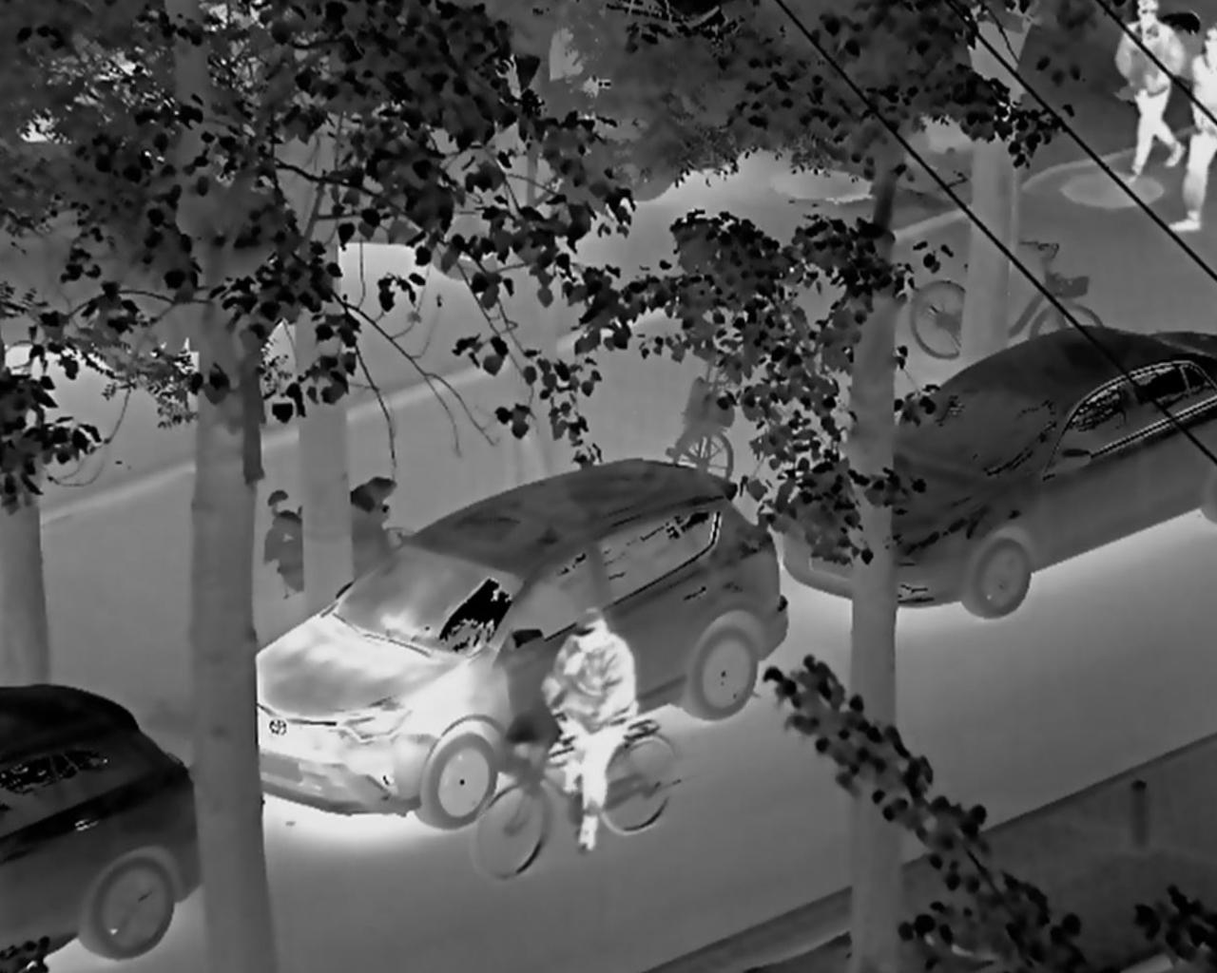person: (533, 602, 649, 864), (1163, 24, 1217, 247)
